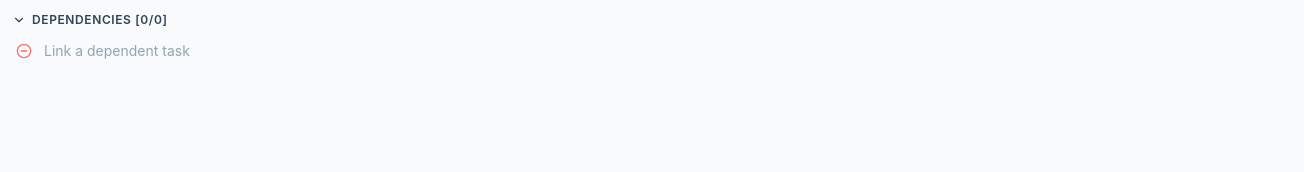
Test case: TaskDependencies › linking a task › shows a server error such as a circular dependency
Step 1. Type "Ship" into the dropdown → {"x": 668, "y": 51}, box [44, 39, 1292, 63]
Then press Enter
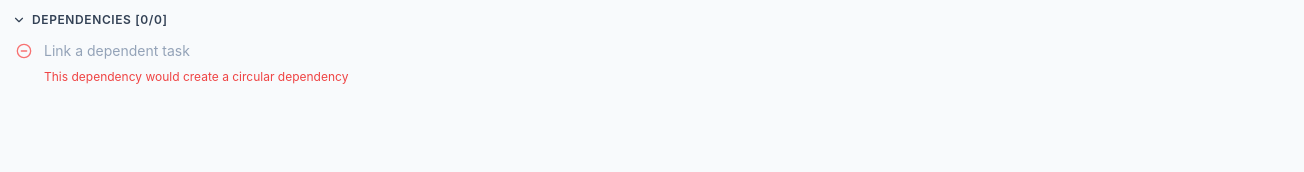
expect the text "This dependency would create a circular dependency" is shown: met, box [44, 69, 348, 84]
